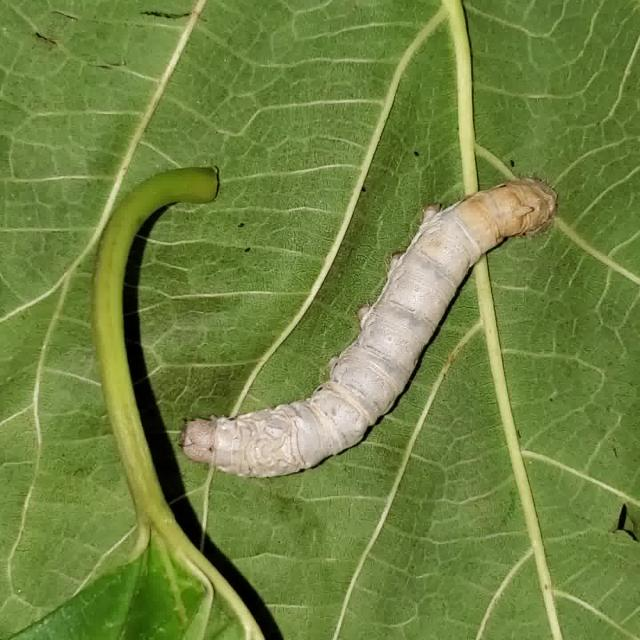Grasserie: (156, 157, 574, 508)
